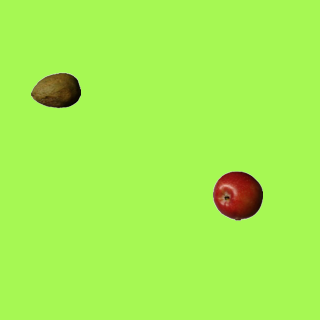Apple Braeburn: (212, 170, 262, 220)
Papaya: (30, 65, 80, 115)
